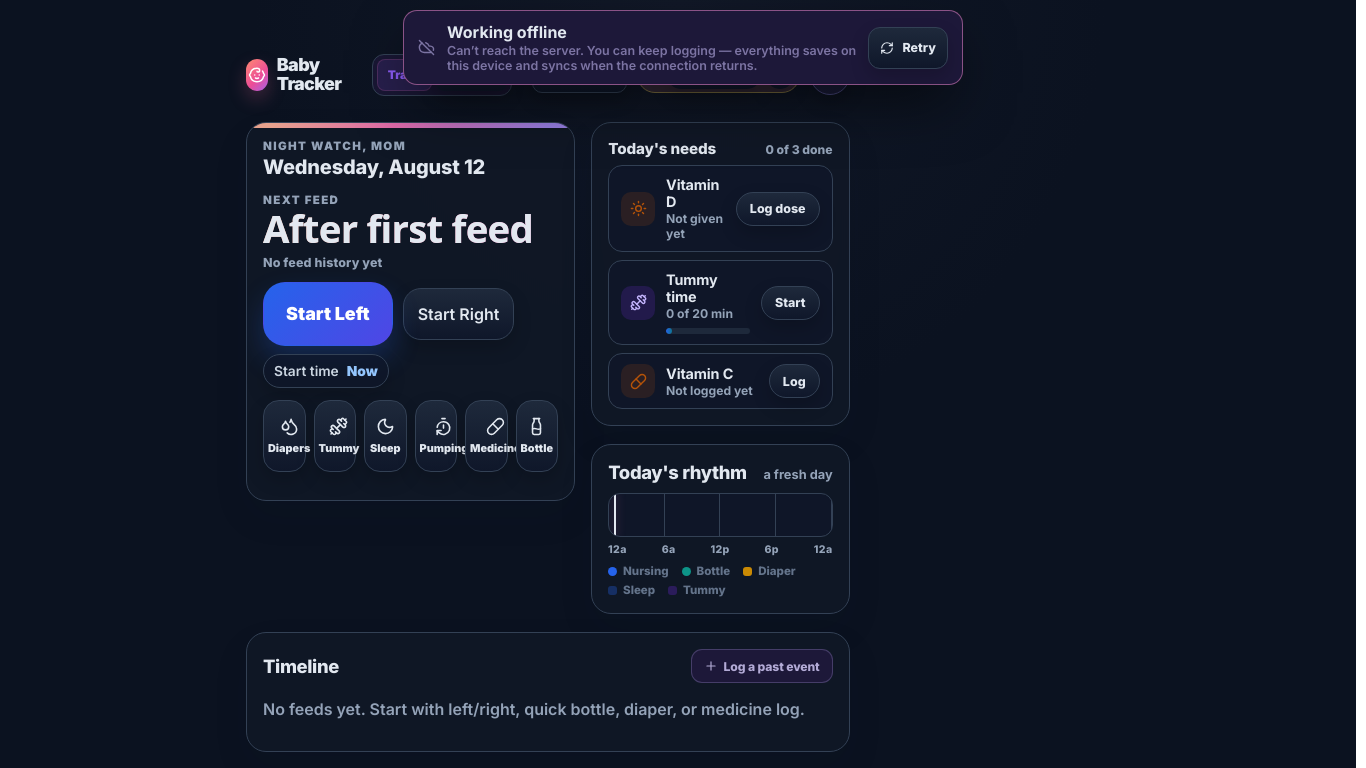
caregiver-defined needs in Today's needs › logs from the row and counts toward the heading
Expected: the text "Not logged yet" is shown, [666,382,758,398]
Click the button with aria-label "Log Vitamin C" at (794, 381), box [769,364,820,398]
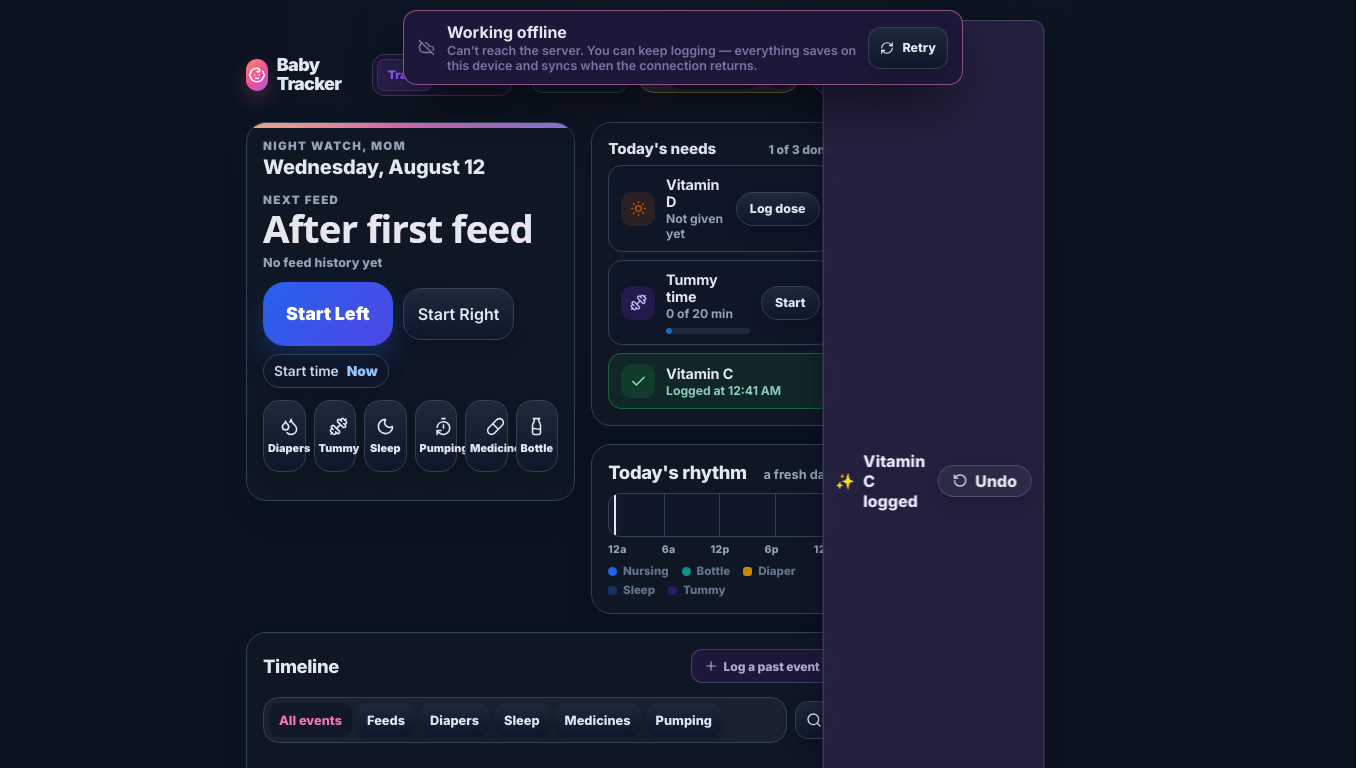
Expected: the text "Logged at 12:41 AM" is shown, [666,382,781,398]
